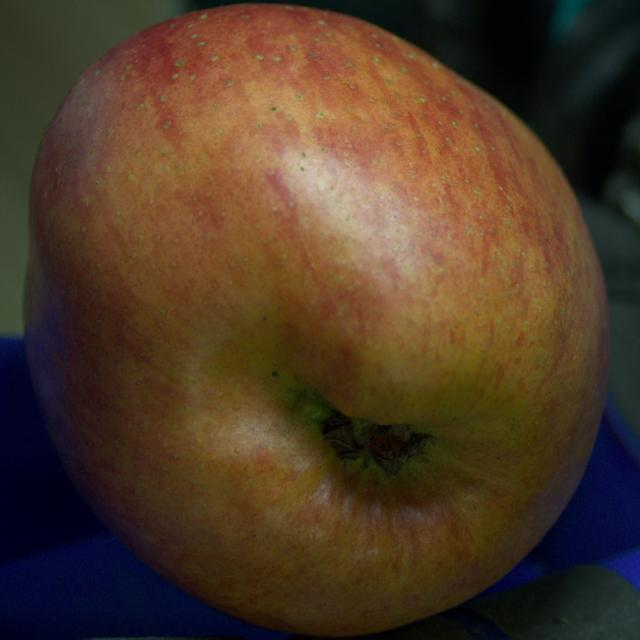apple: (24, 4, 608, 636)
